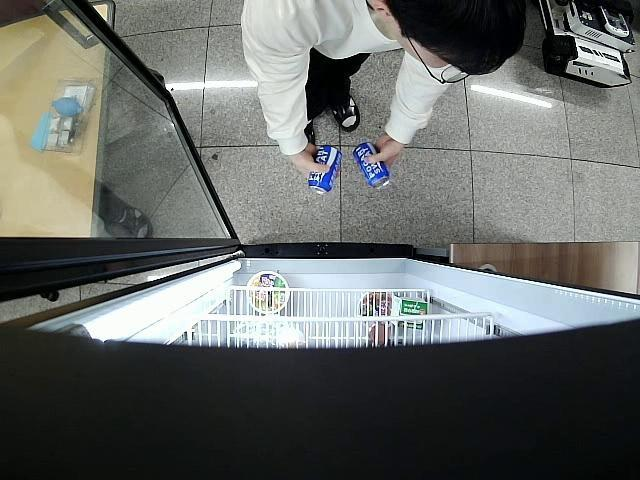13_pocariSweat: (352, 142, 390, 192), (308, 142, 342, 197)
